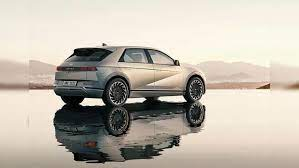Honda Ioniq: (50, 38, 211, 115)
